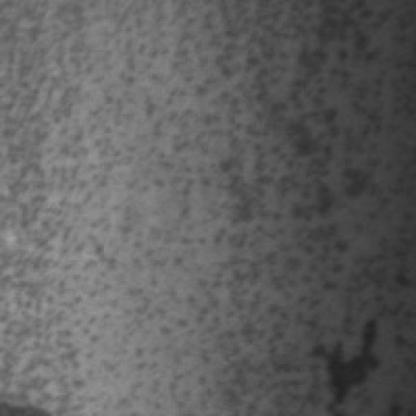pitted_surface: (48, 2, 401, 397)
